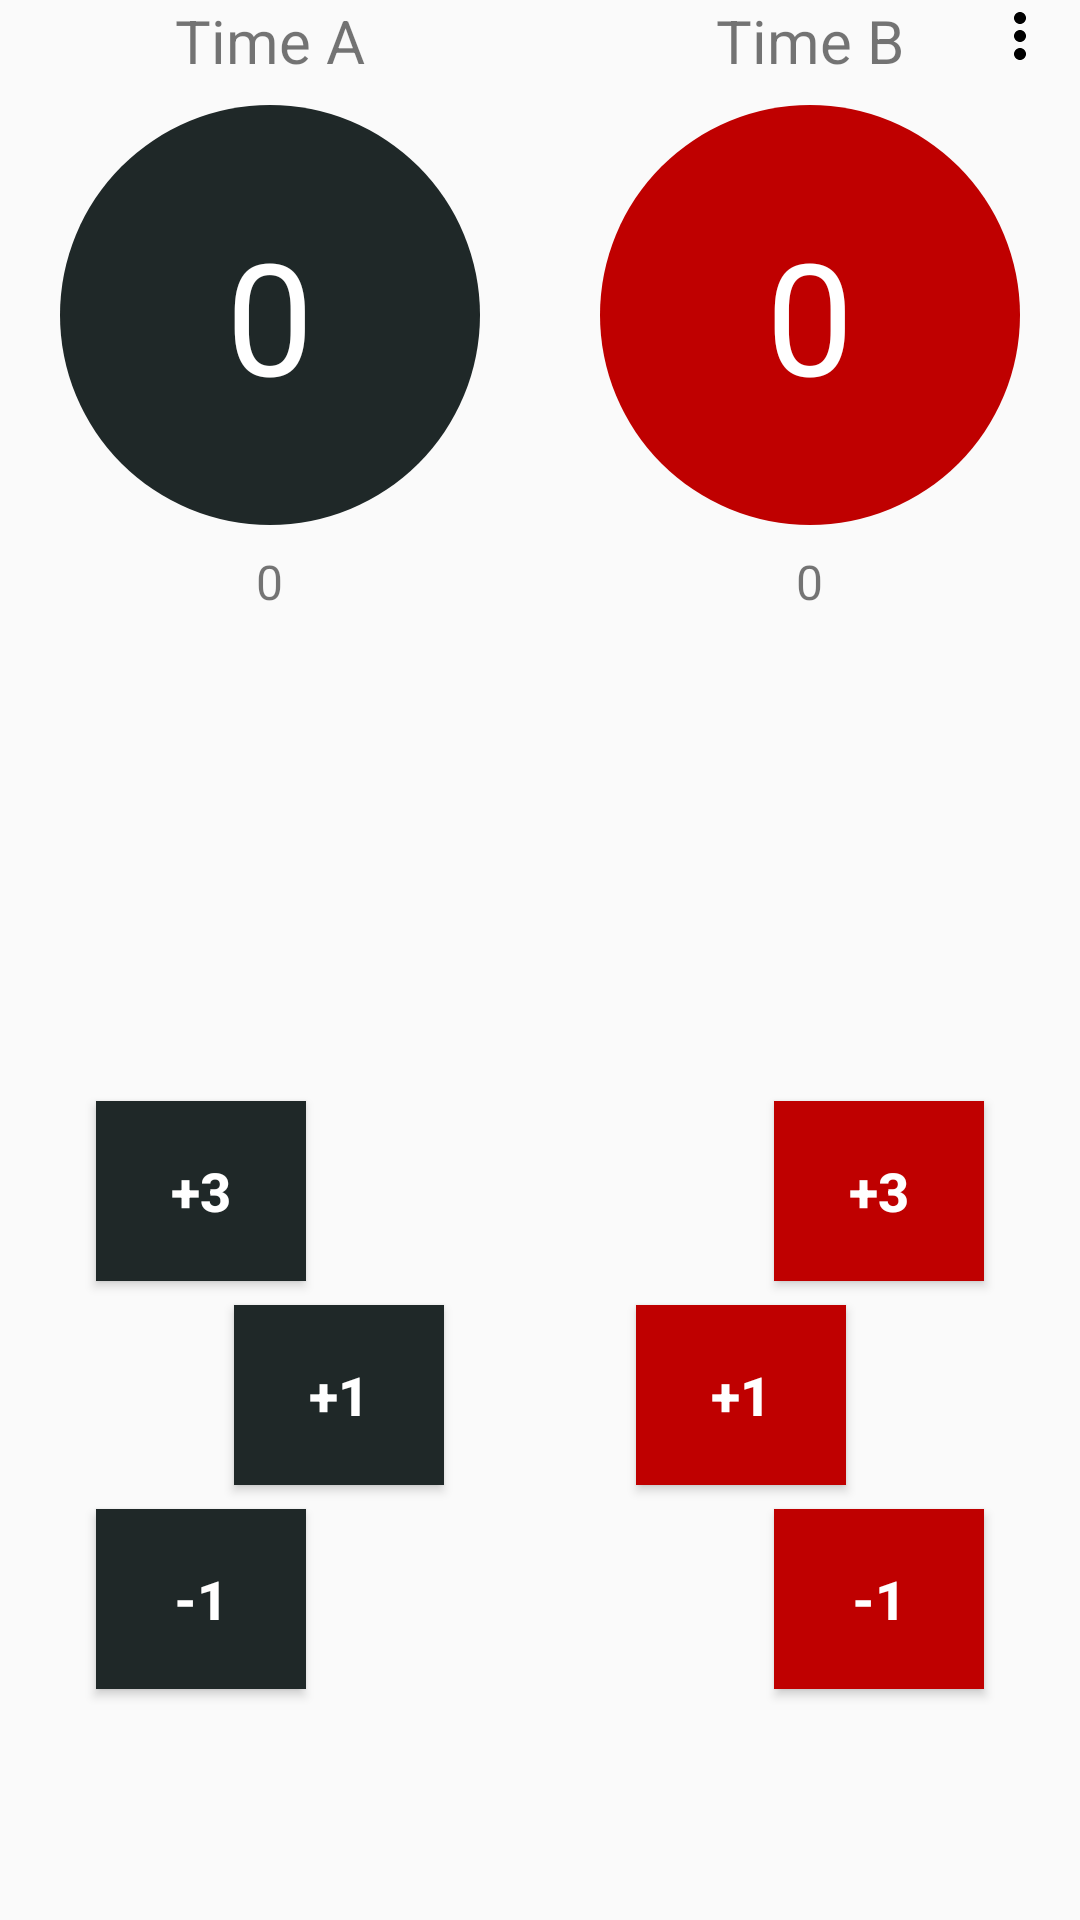

Where icons sit on this 1080x1920 app screen, as [x1,y1,x2,y2]:
more vert: [1014,12,1026,60]
